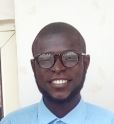without_facemask: (39, 70, 76, 103)
